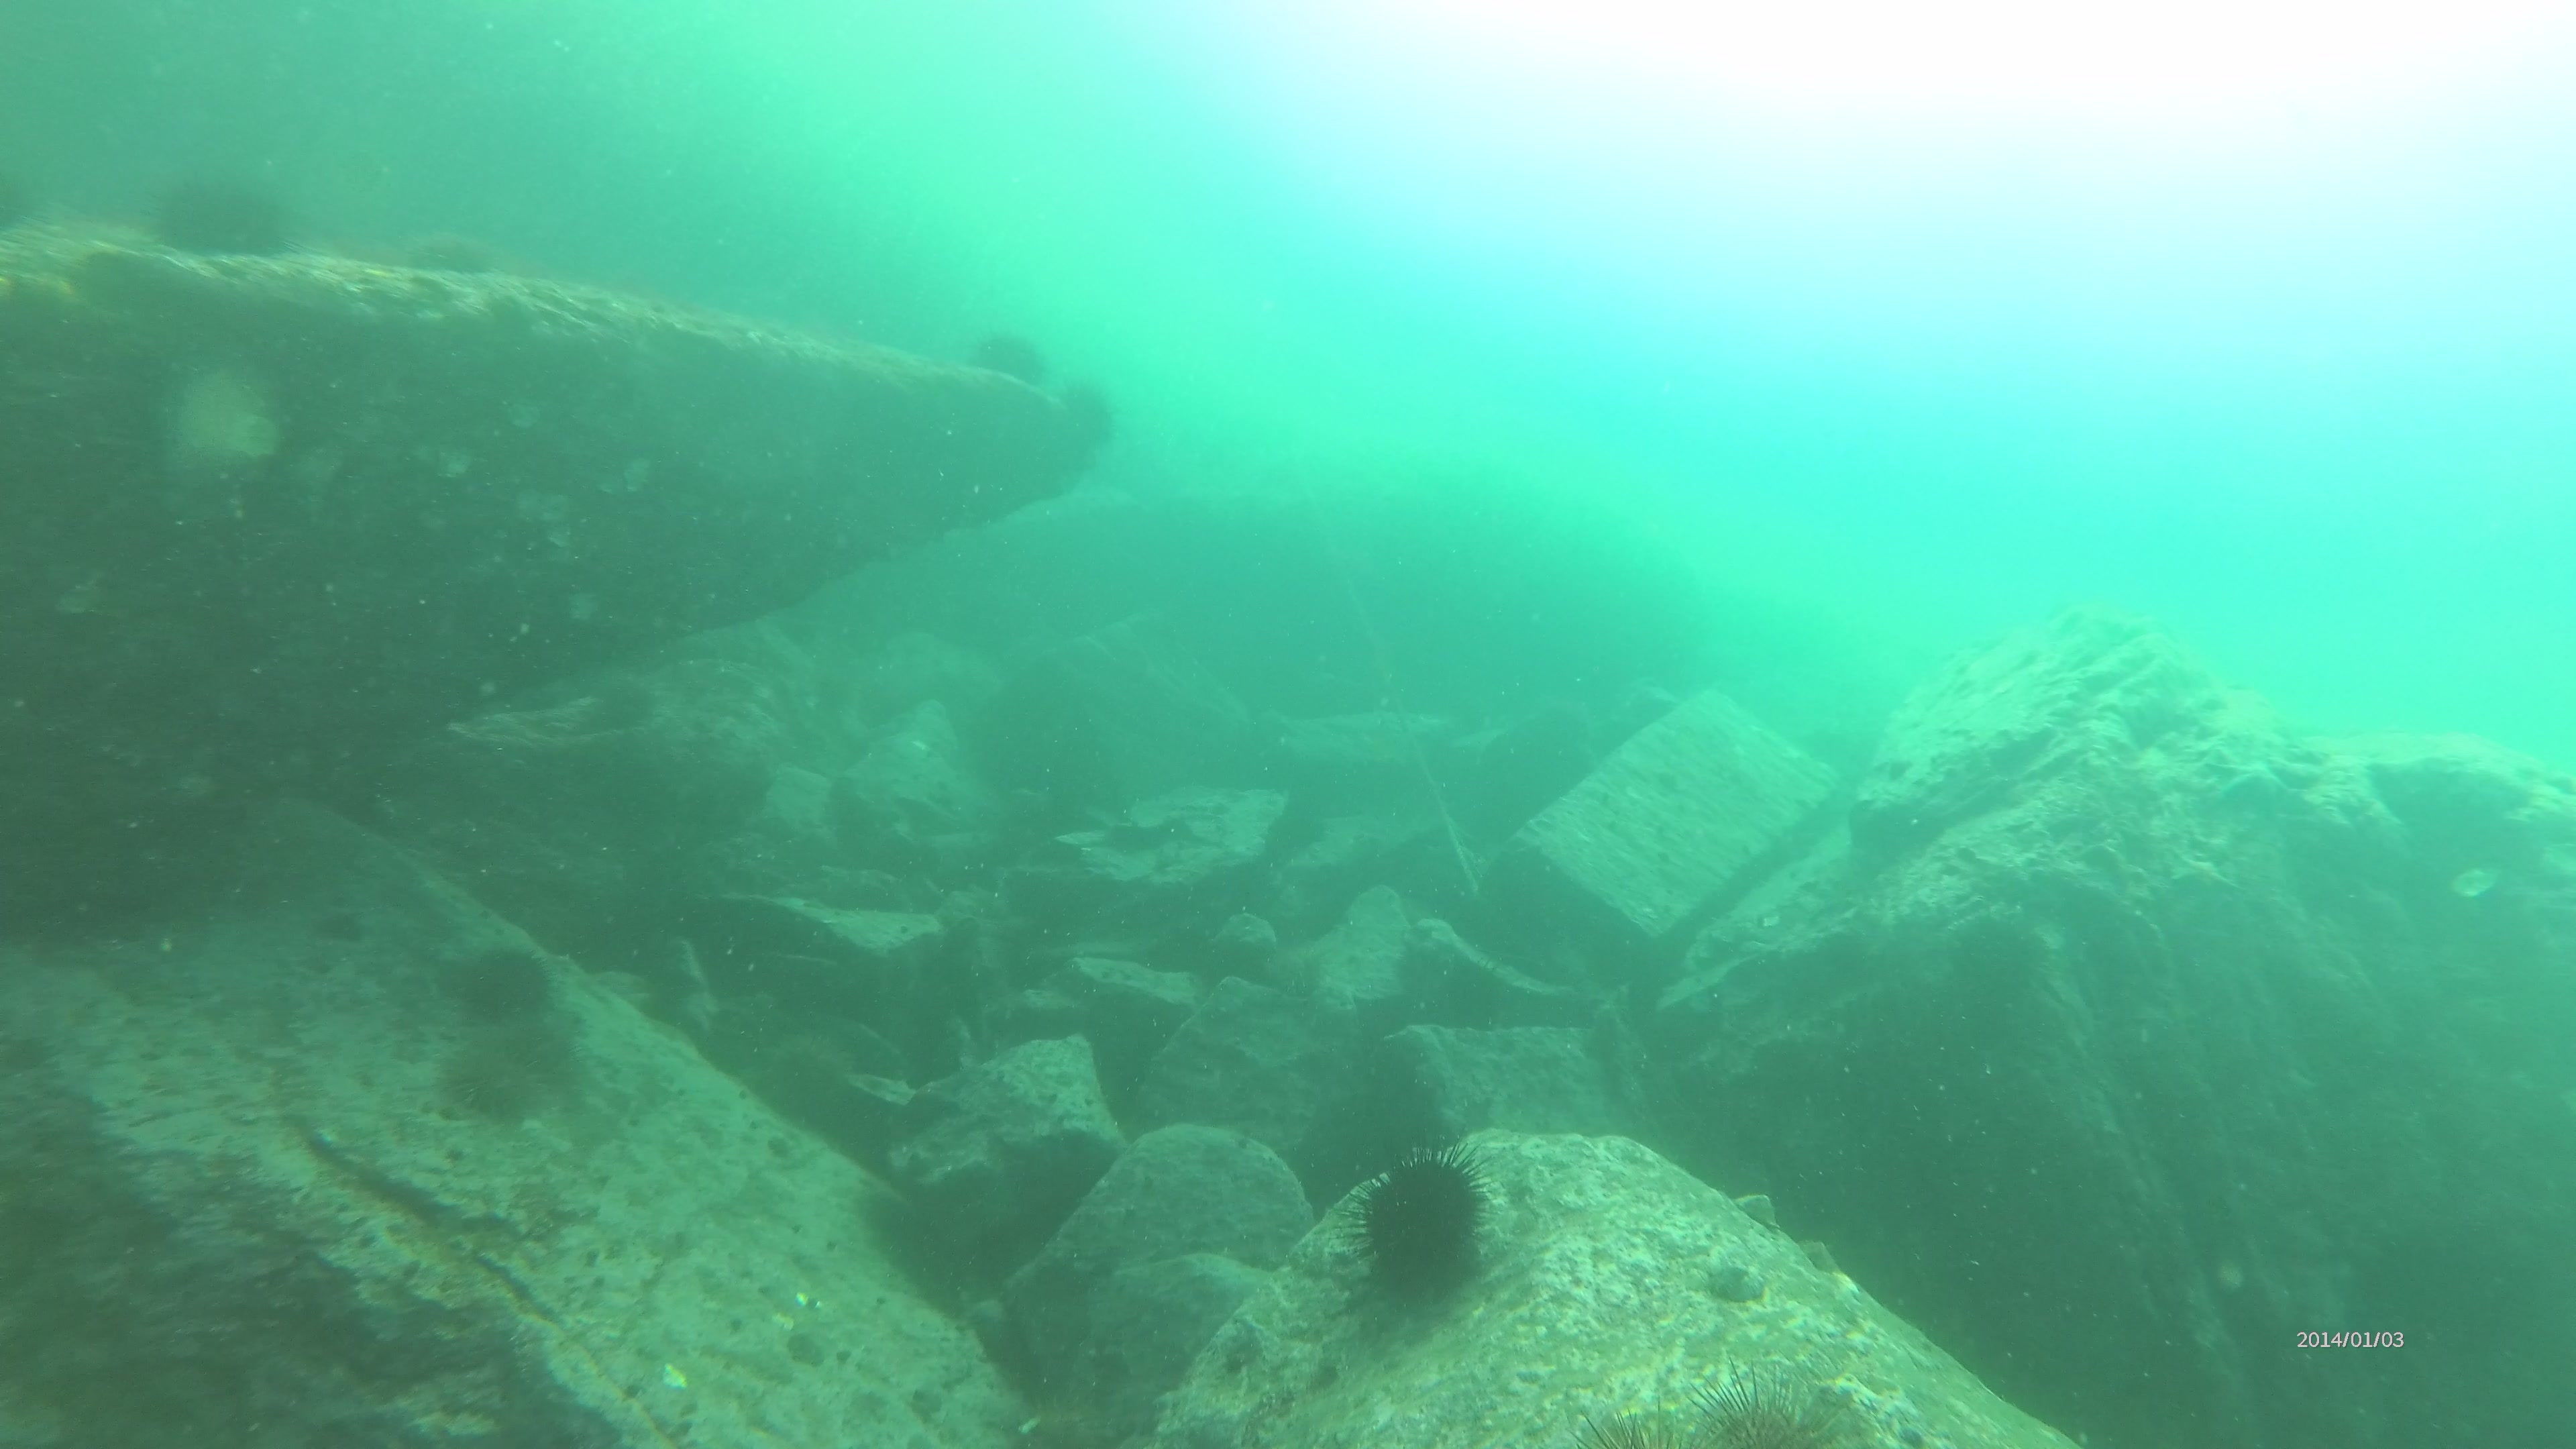echinus: (1336, 1134, 1506, 1293), (138, 163, 299, 278), (449, 924, 575, 1028), (1665, 1384, 1844, 1449), (432, 1044, 550, 1131), (1037, 389, 1139, 465), (955, 320, 1049, 402), (487, 1001, 580, 1077), (1557, 1415, 1688, 1449)
